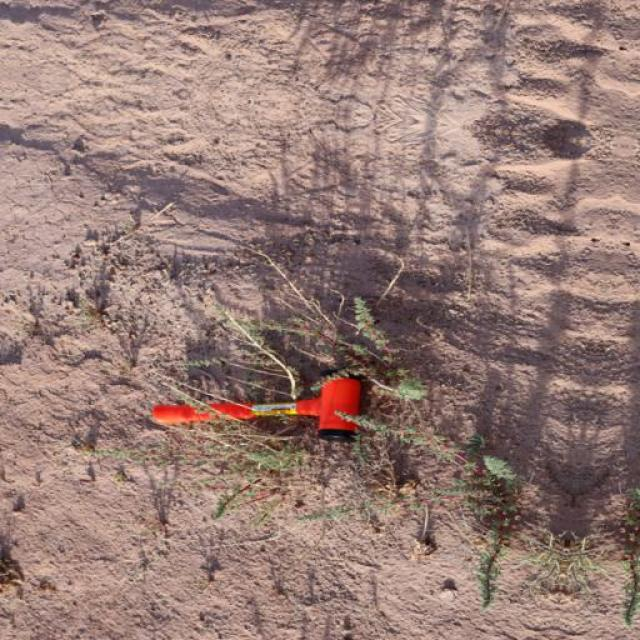mallet: (148, 374, 362, 441)
